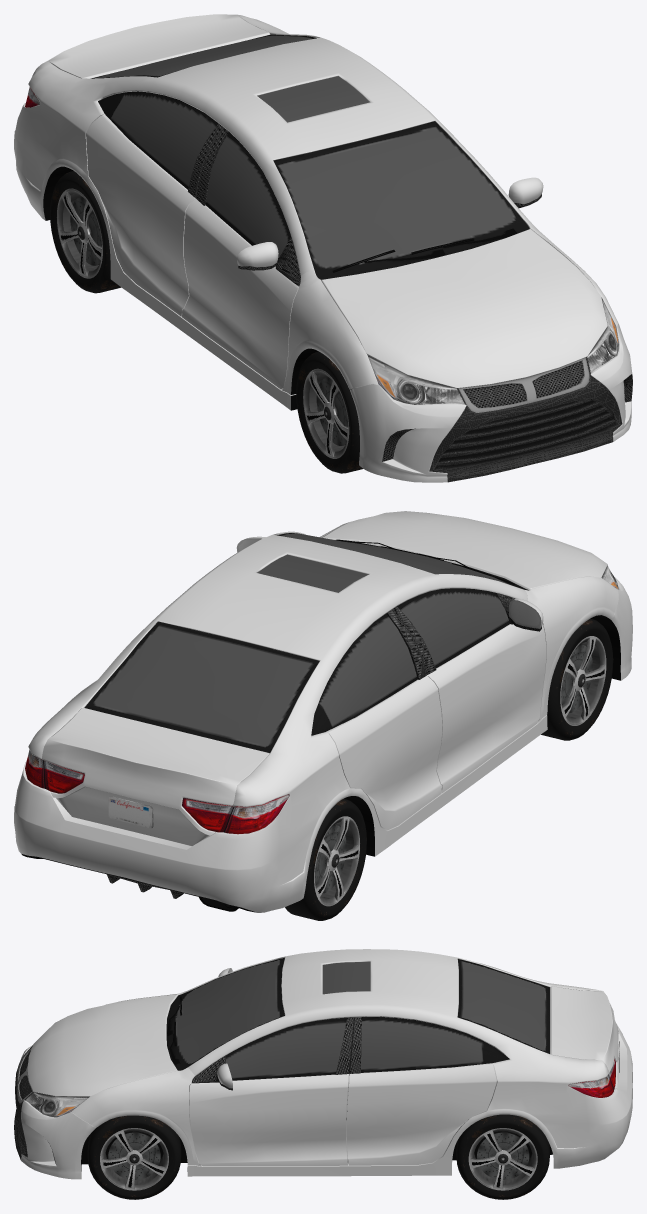
File: Sedan.fbx
3 views of the same model, one above another, from view 1: azimuth 30°, elevation 25°; view 2: azimuth 150°, elevation 25°; view 3: azimuth 270°, elevation 25° (orthographic). The views are drawn at different scales.
Visible parts, largest first — view 1: body, wheel02, wheel04, light_front; view 2: body, wheel02, wheel04, light_brakes; view 3: body, wheel01, wheel03, light_brakes, light_front.
Boxes of the visible parts, bbox=[...] form: body: bbox=[14, 14, 632, 482]; wheel02: bbox=[296, 351, 362, 473]; wheel04: bbox=[50, 171, 121, 293]; light_front: bbox=[399, 331, 617, 404]; body: bbox=[14, 511, 632, 912]; wheel02: bbox=[541, 618, 613, 740]; wheel04: bbox=[285, 798, 366, 920]; light_brakes: bbox=[25, 756, 289, 834]; body: bbox=[14, 949, 632, 1179]; wheel01: bbox=[87, 1115, 181, 1199]; wheel03: bbox=[456, 1114, 549, 1199]; light_brakes: bbox=[568, 1059, 615, 1097]; light_front: bbox=[25, 1093, 57, 1114].
Size of the model in its own units: 194 by 456 by 145.
9 materials, 6 textured.
